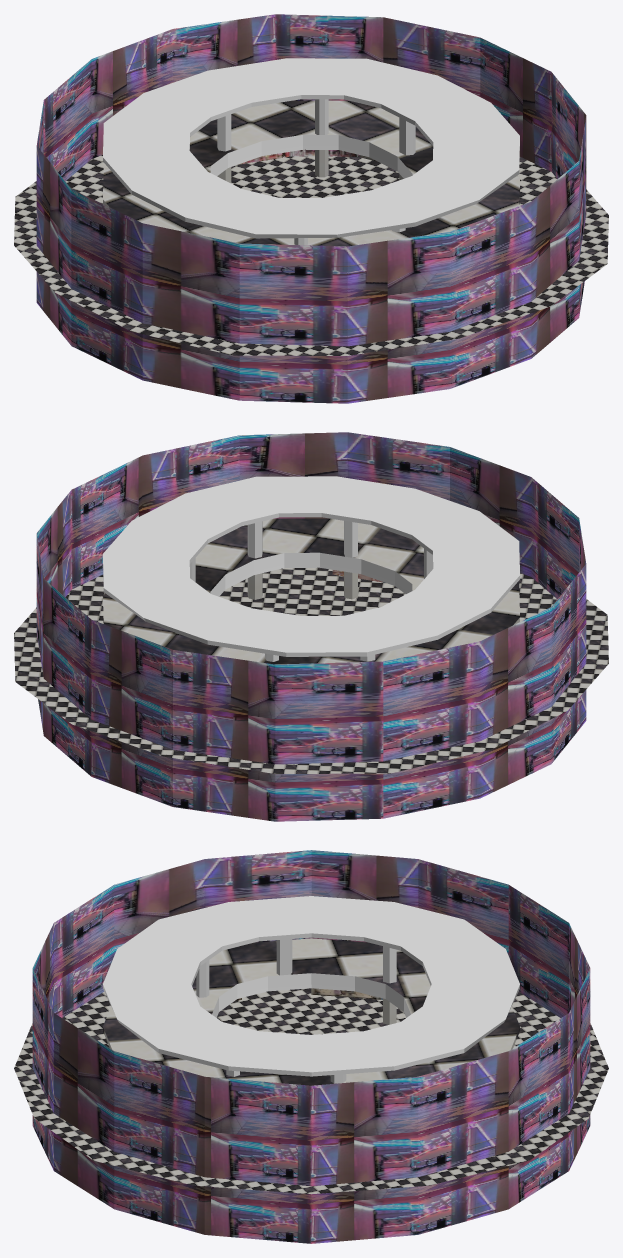
File: mall.glb
3 views of the same model, one above another, from view 1: azimuth 30°, elevation 25°; view 2: azimuth 150°, elevation 25°; view 3: azimuth 270°, elevation 25° (orthographic).
Parts seen in each view (by area): view 1: Cylinder, Plane.004, Plane, Plane.001, Plane.002; view 2: Cylinder, Plane.004, Plane, Plane.001; view 3: Cylinder, Plane.004, Plane, Plane.001.
Part boxes in pixels (x1,y1,x2,y2): Cylinder: (36,14,586,403); Plane.004: (103,58,519,245); Plane: (14,155,608,355); Plane.001: (103,100,519,246); Plane.002: (238,149,376,164); Cylinder: (36,432,586,821); Plane.004: (103,476,519,661); Plane: (14,567,608,773); Plane.001: (103,518,519,664); Cylinder: (32,850,590,1243); Plane.004: (103,896,519,1083); Plane: (14,988,608,1194); Plane.001: (103,938,519,1085).
Bounding box in the file's own units: 70.59 × 20.71 × 70.59.
28 materials, 27 textured.
